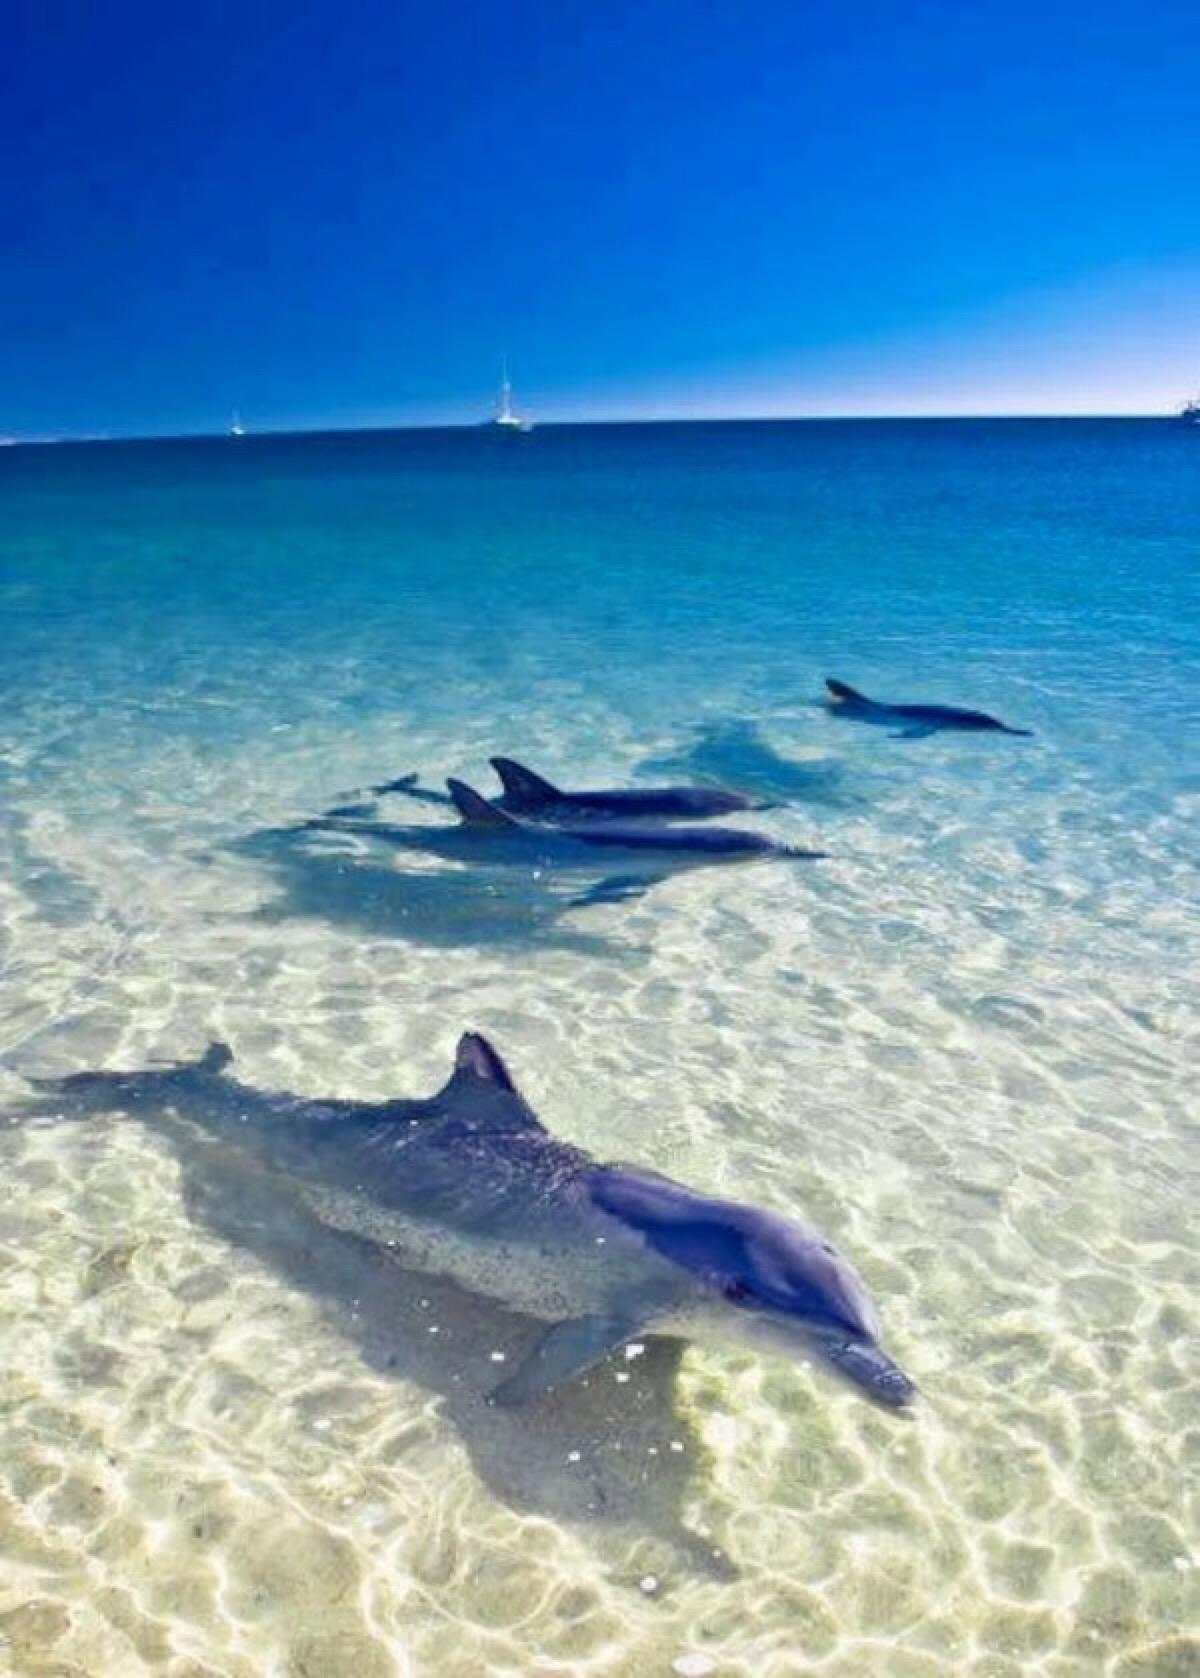fish: (61, 1018, 942, 1414), (268, 788, 842, 909), (791, 668, 1052, 760)
